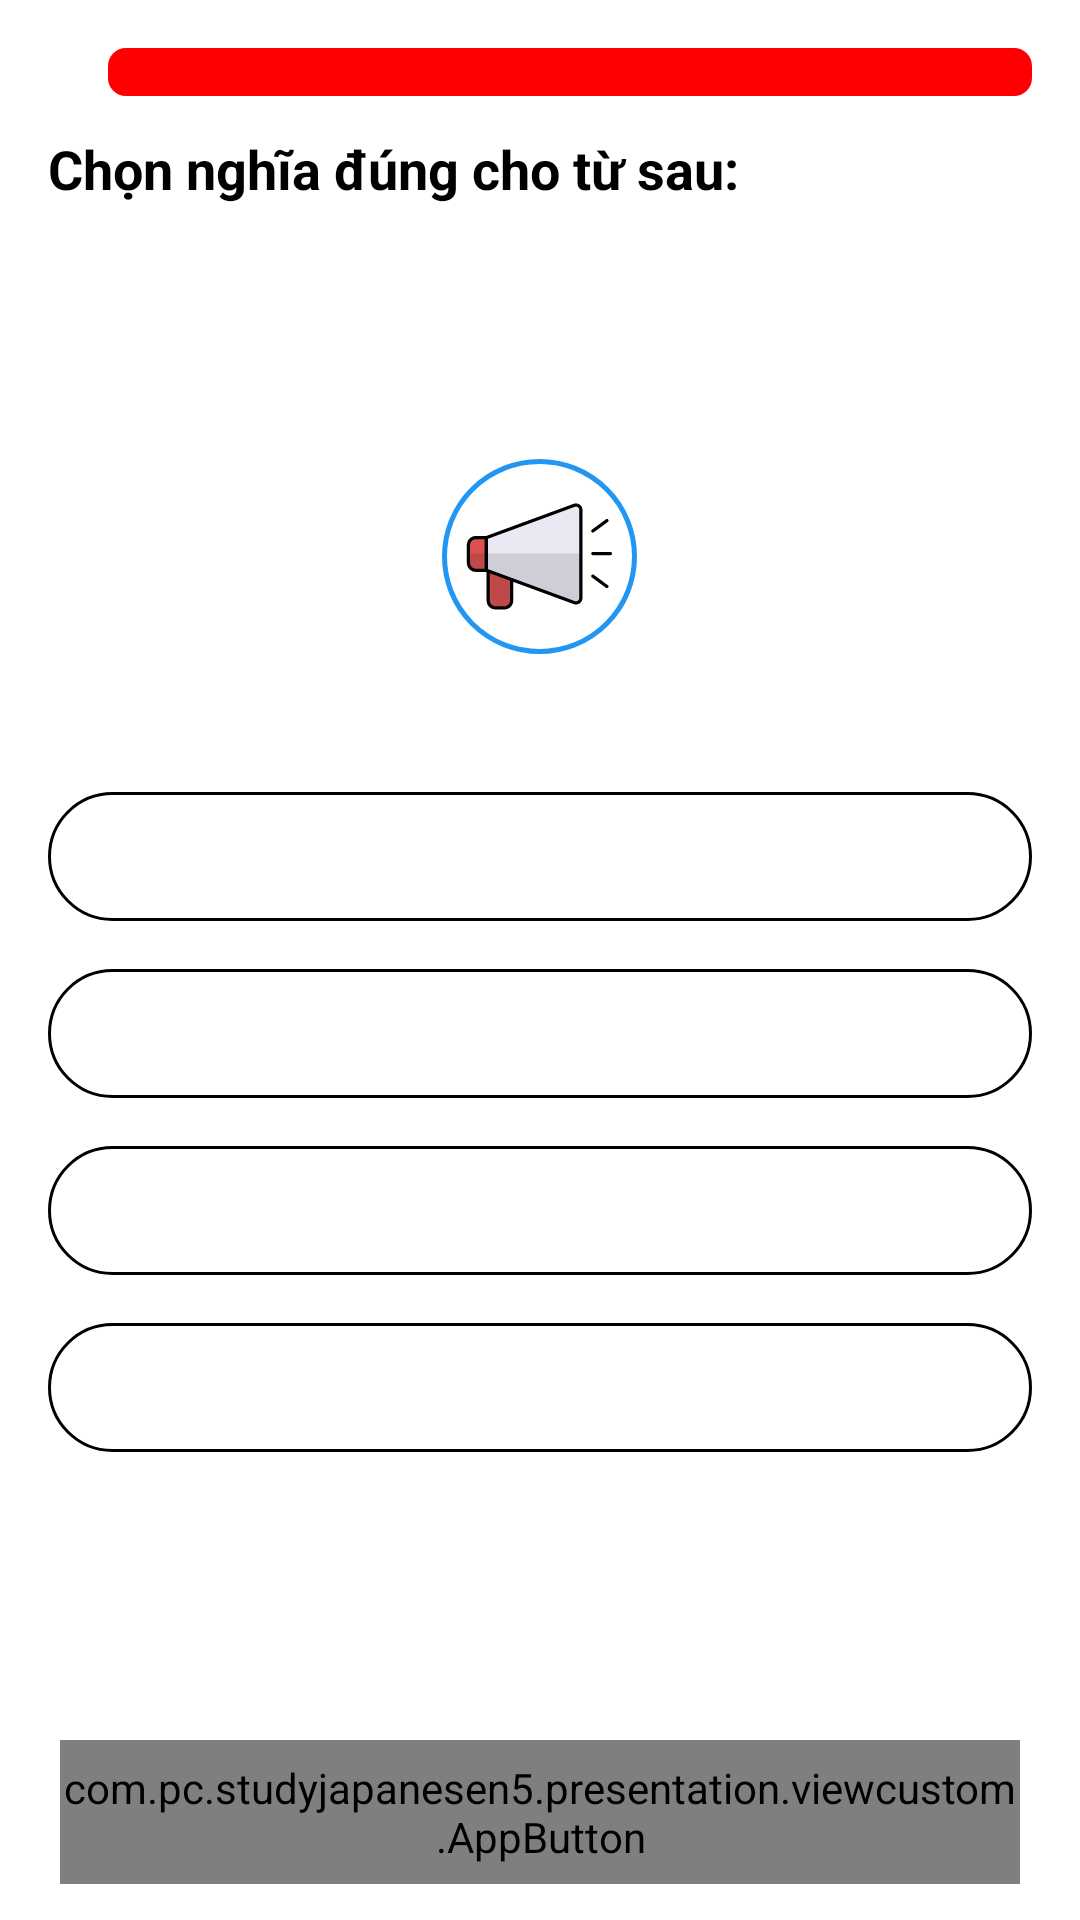

Icon bounding boxes for this 1080px×1920px phone screenshot, format bbox=[x1, y1, x2, y2]:
loudspeaker: bbox=[442, 459, 637, 654]
